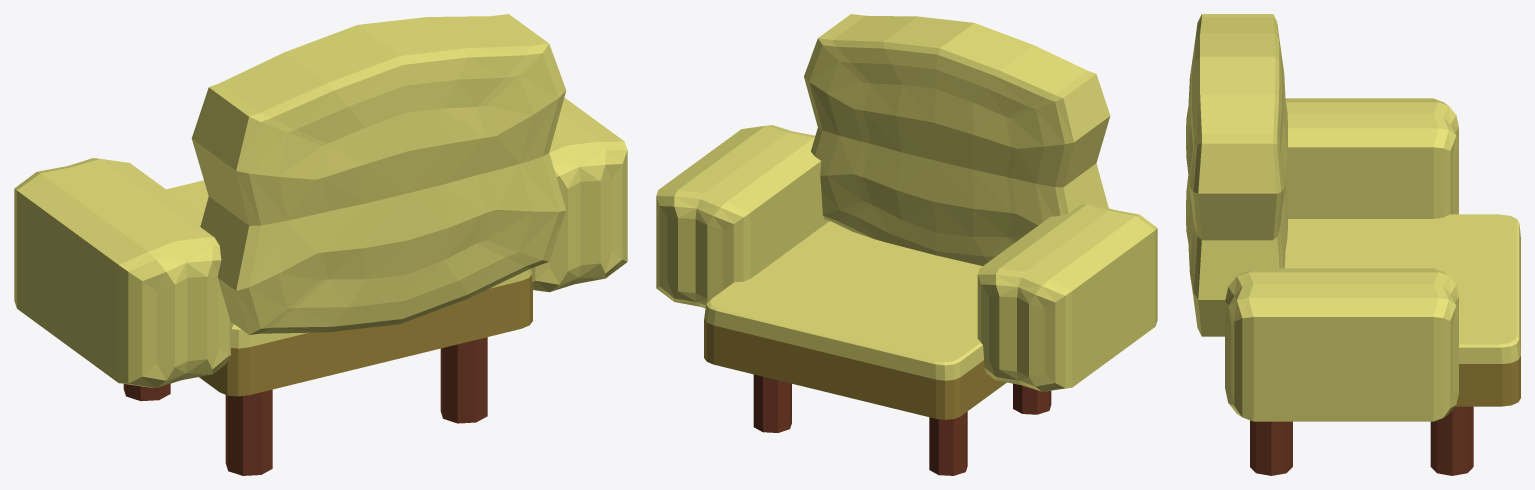
File: Arm_chair.dae
The picture shows the model from 3 angles, left to right: view 1: azimuth 30°, elevation 25°; view 2: azimuth 150°, elevation 25°; view 3: azimuth 270°, elevation 25°; orthographic projection. The views are drawn at different scales.
Visible parts, largest first — view 1: Cube.051, Cube.050, TV_Stand.001, table_legs.002; view 2: Cube.051, Cube.050, TV_Stand.001, table_legs.002; view 3: Cube.050, Cube.051, TV_Stand.001, table_legs.002.
Part boxes in pixels (x1,y1,x2,y2): Cube.051: (191,14,566,334); Cube.050: (14,97,627,387); TV_Stand.001: (166,180,532,396); table_legs.002: (123,337,487,475); Cube.051: (804,14,1110,265); Cube.050: (656,125,1157,391); TV_Stand.001: (704,221,1006,419); table_legs.002: (753,374,1051,475); Cube.050: (1225,98,1458,421); Cube.051: (1186,14,1287,336); TV_Stand.001: (1284,214,1520,406); table_legs.002: (1250,406,1473,475).
Bounding box in the file's own units: 1.12 × 0.7272 × 0.8748.
